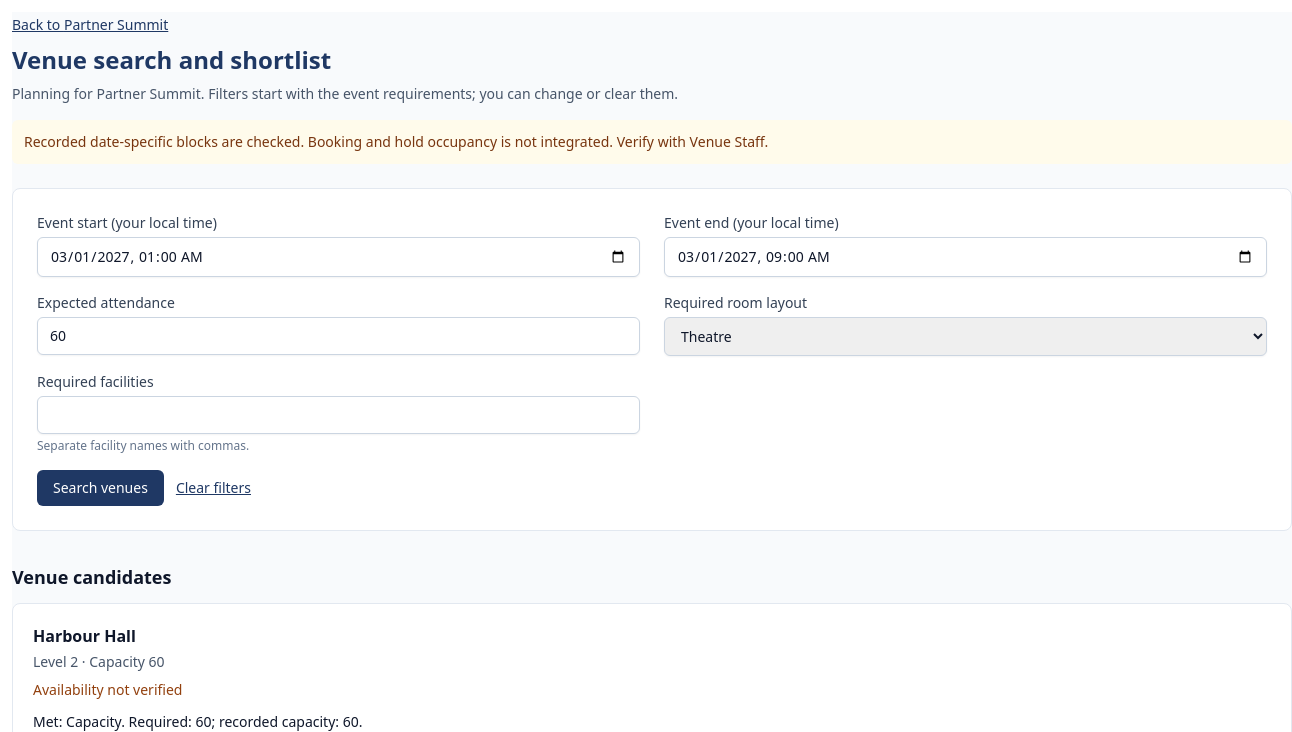
Scenario: SCRUM-64/68 venue discovery › validates partial periods before sending a search
Expected: the heading "Harbour Hall" is shown, x1=33 y1=625 x2=136 y2=647
Clear the field labelled "Event end (your local time)" at (966, 257), box x1=664 y1=237 x2=1267 y2=277
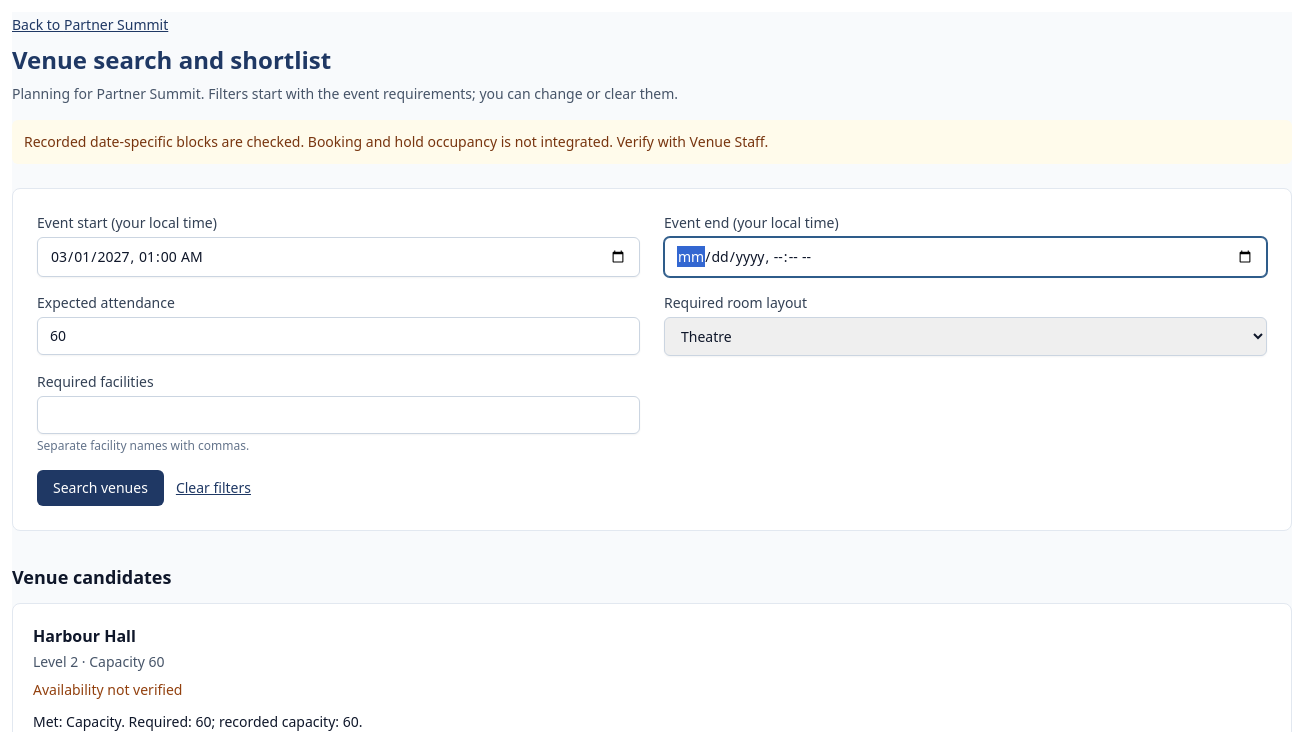
Click the button "Search venues" at (100, 488), box x1=37 y1=470 x2=164 y2=506
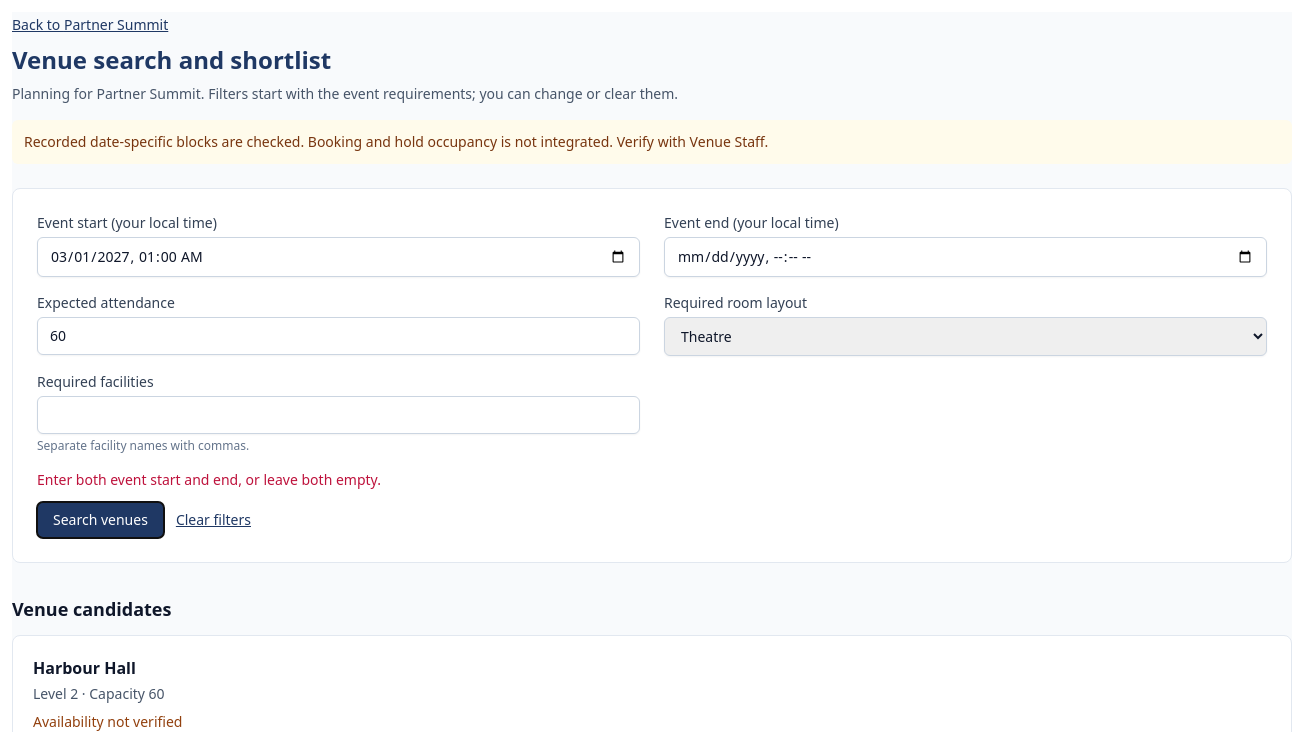
Expected: the message shows "Enter both event start and end", x1=37 y1=470 x2=381 y2=489
